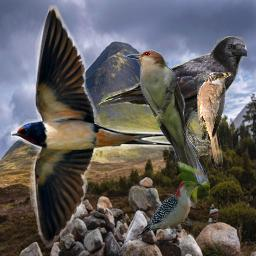Crow: (94, 36, 247, 157)
Cuckoo: (126, 49, 210, 208), (197, 72, 232, 168)
Swallow: (11, 5, 191, 249)
Woodpecker: (138, 181, 206, 236)
